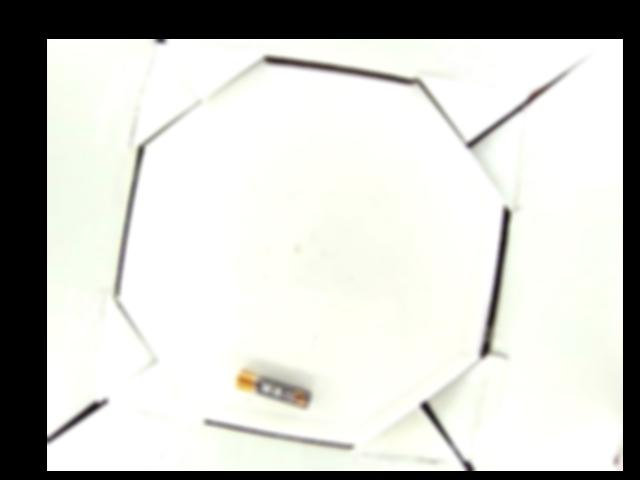Battery: (235, 368, 314, 407)
